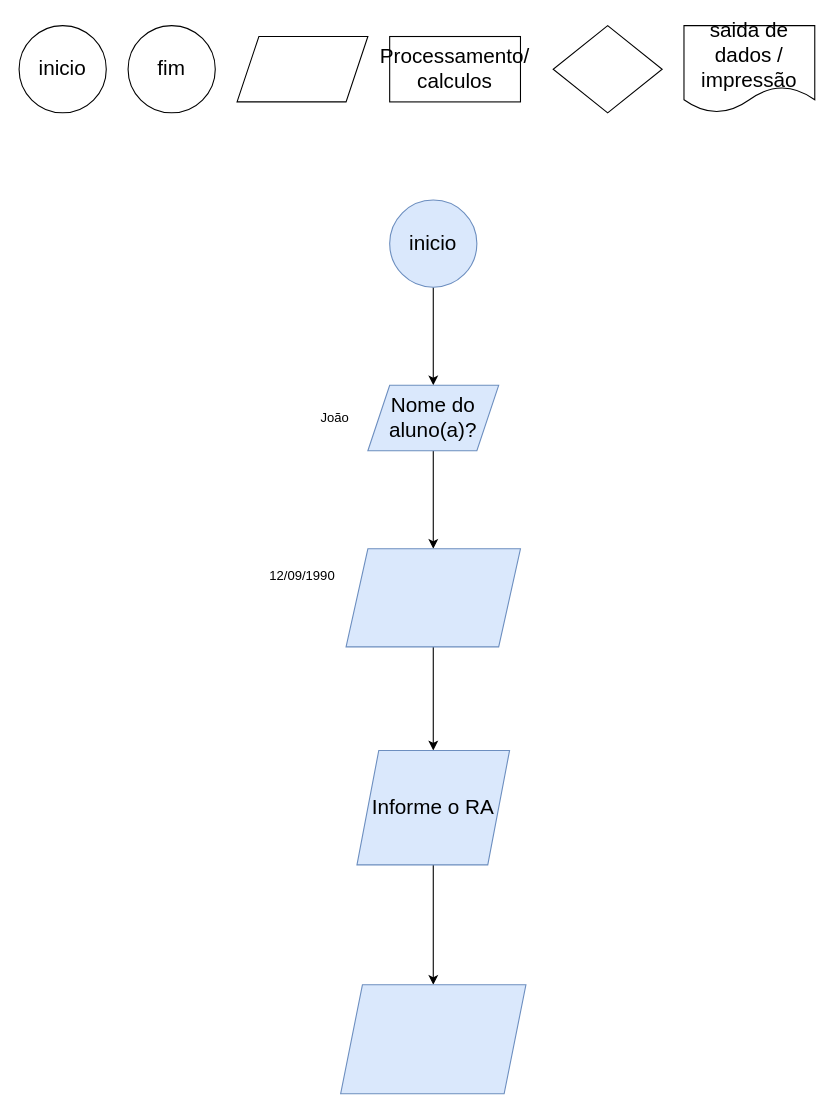
Image size: 834x1113. Some labels were removed from this diagram. Here are the shapes that lost their labels. From the top down, the centre of each, then its label:
At (x=302, y=68): "Entrada de dados".
At (x=607, y=69): "decisões/ validar / se".
At (x=432, y=597): "Data de Nascimento?".
